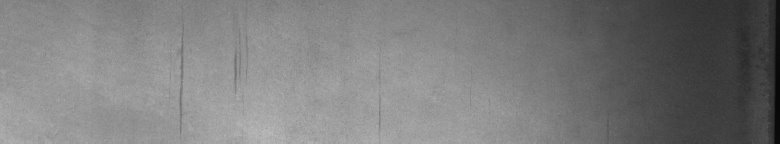ka: (178, 44, 247, 128)
